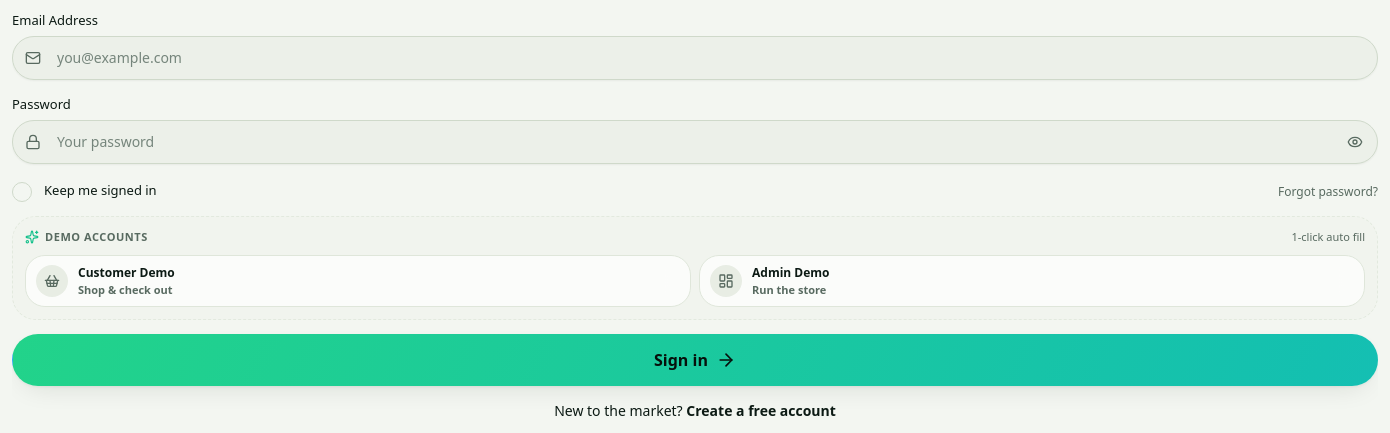
it: LoginForm › Customer and Admin demo buttons auto-fill login credentials
Expected: the button "Admin Demo Run the store" is shown, [699,255,1365,307]
Click the button "Customer Demo Shop & check out". click: {"x": 52, "y": 281}
box: [25,255,691,307]
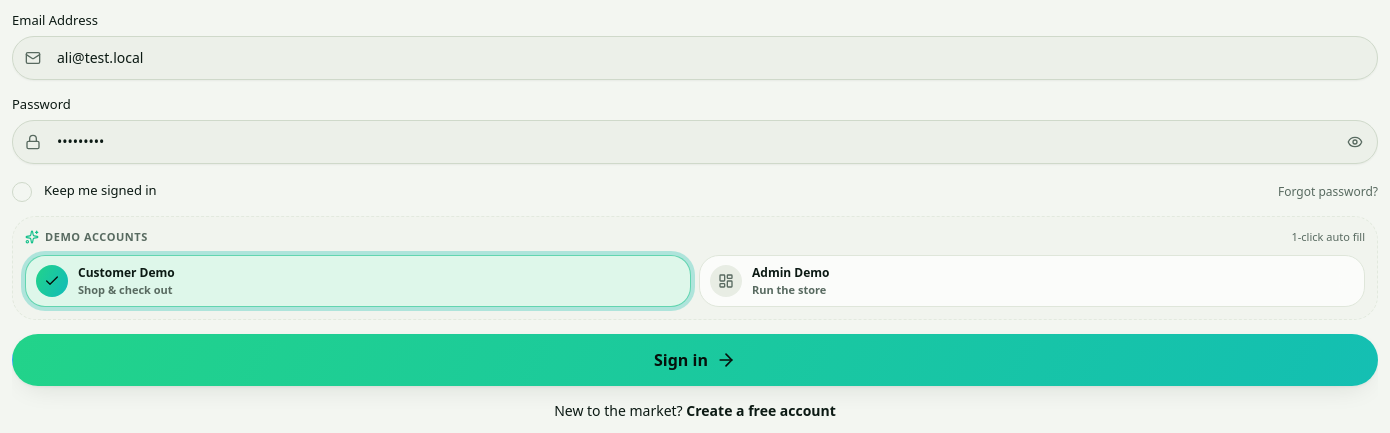
Expected: the field labelled "Email Address" holds "ali@test.local", [41,36,1377,80]
Expected: the password field labelled "Password" holds "secret123", [41,120,1341,164]
Click the button "Admin Demo Run the store". click: {"x": 726, "y": 281}
box: [699,255,1365,307]
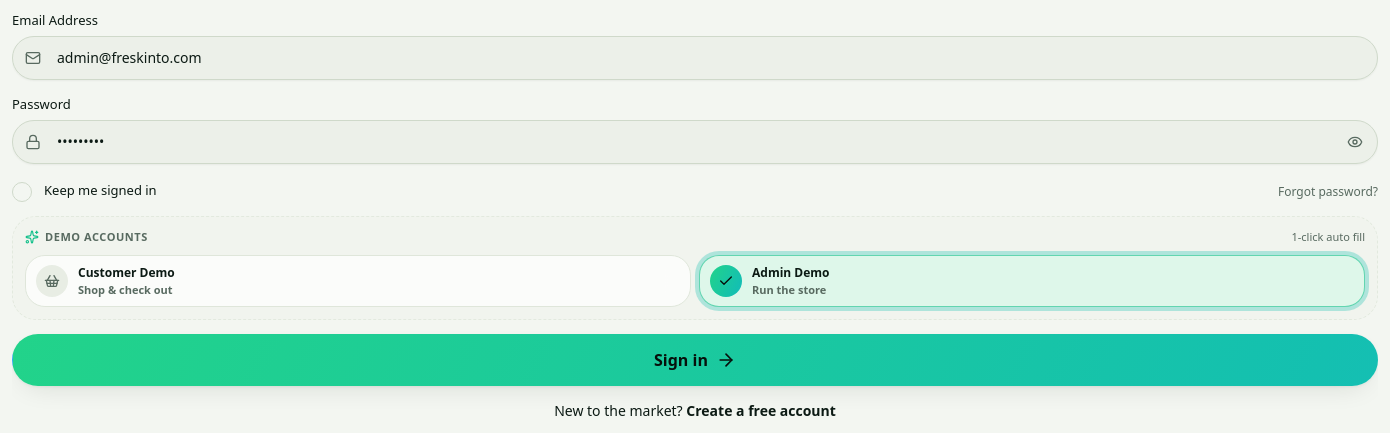
Expected: the password field labelled "Password" holds "Admin@123", [41,120,1341,164]
Expected: the field labelled "Email Address" holds "admin@freskinto.com", [41,36,1377,80]
